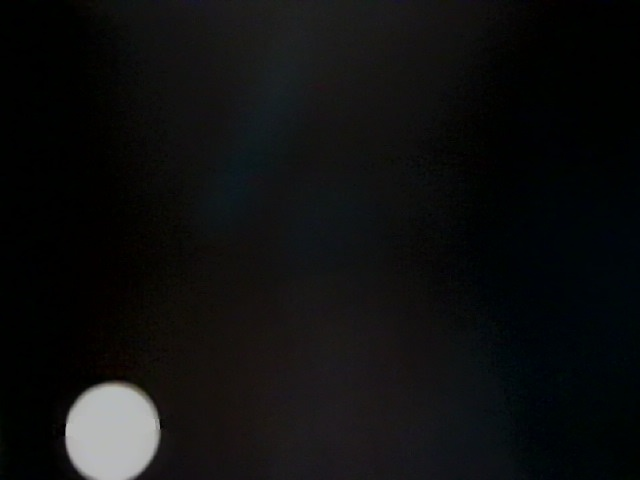KHSLJ: (139, 101, 627, 480)
